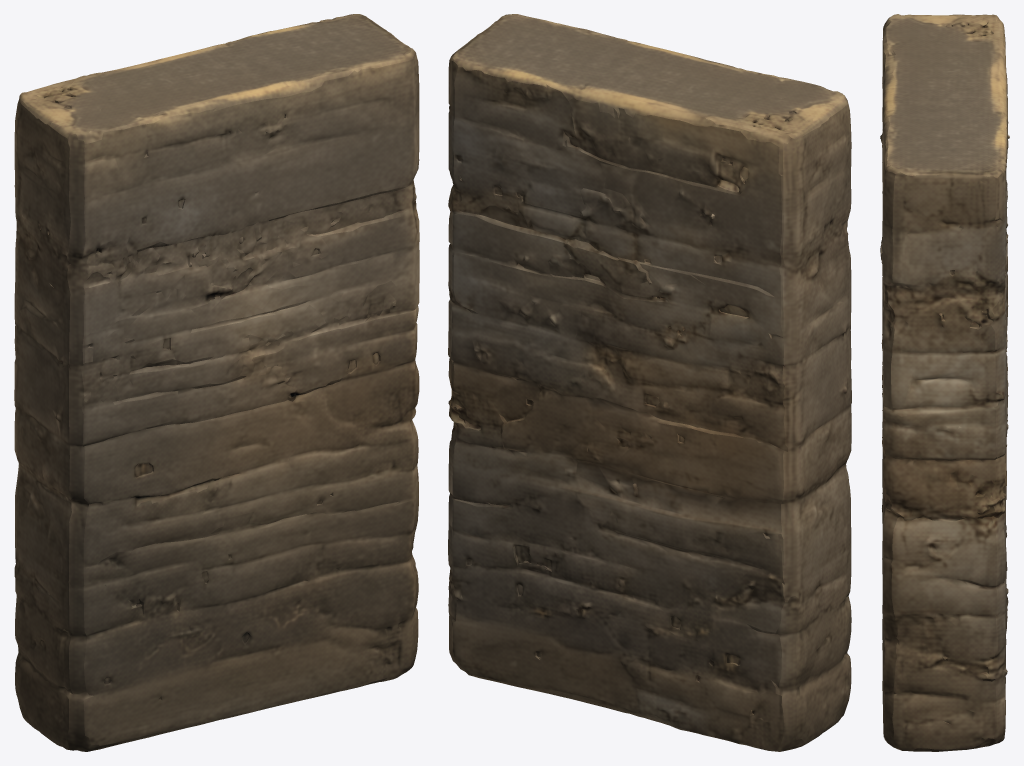
The model's file is wall_span.glb.
The picture shows the model from 3 angles, left to right: view 1: azimuth 30°, elevation 25°; view 2: azimuth 150°, elevation 25°; view 3: azimuth 270°, elevation 25°; orthographic projection. The views are drawn at different scales.
Visible parts, largest first — view 1: world; view 2: world; view 3: world.
Boxes of the visible parts, x1,y1,x2,y2 form: world: [14, 14, 419, 751]; world: [448, 14, 851, 751]; world: [880, 14, 1009, 751].
Bounding box in the file's own units: 1.8 × 2.98 × 0.6015.
1 material, 1 textured.
